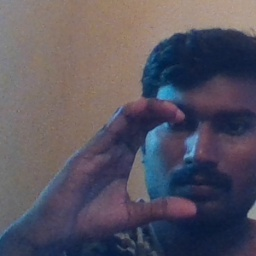C: (101, 93, 204, 226)
